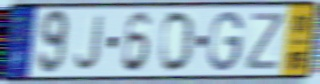6: (120, 9, 154, 75)
9: (35, 7, 70, 78)
G: (207, 9, 246, 74)
J: (73, 13, 107, 73)
O: (158, 9, 197, 75)
Z: (244, 11, 288, 72)
